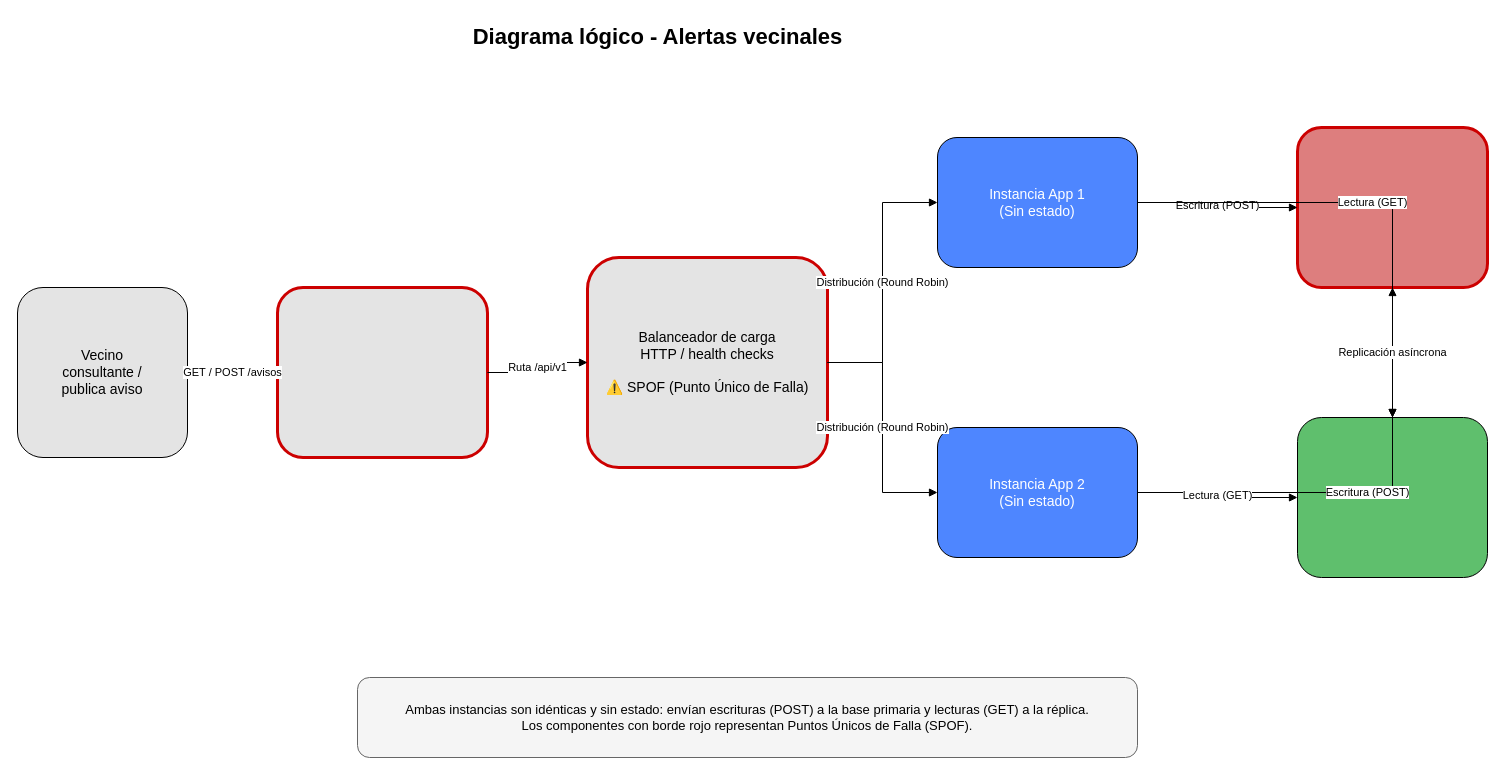
The diagram is 1506 pixels wide and 775 high, and some of its shapes have lost their labels. The shapes that lost their labels are listed below. From the top down, each one's centre as x and y in pixels, then its label:
At point 1392,207: "PostgreSQL Primaria (Escrituras) ⚠️ SPOF de Escritura".
At point 382,372: "API Gateway Enrutamiento + API Key ⚠️ SPOF (Punto Único de Falla)".
At point 1392,497: "Réplica Lectura (Consultas)".
